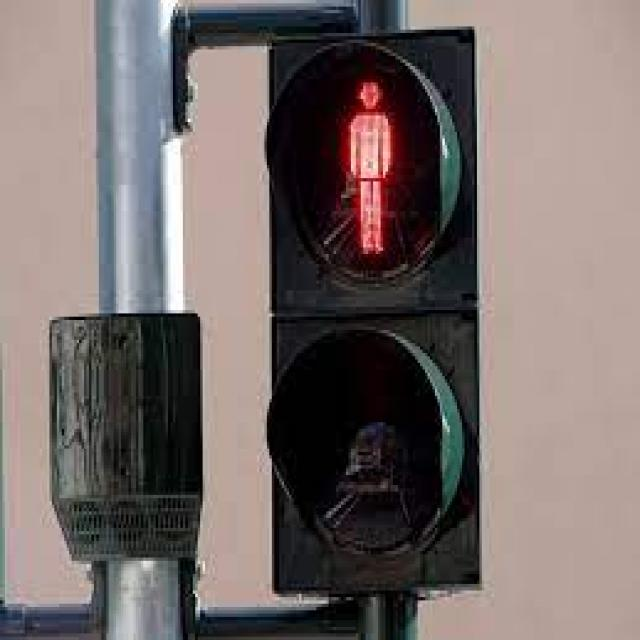Not go: (249, 37, 482, 561), (255, 24, 486, 320)
